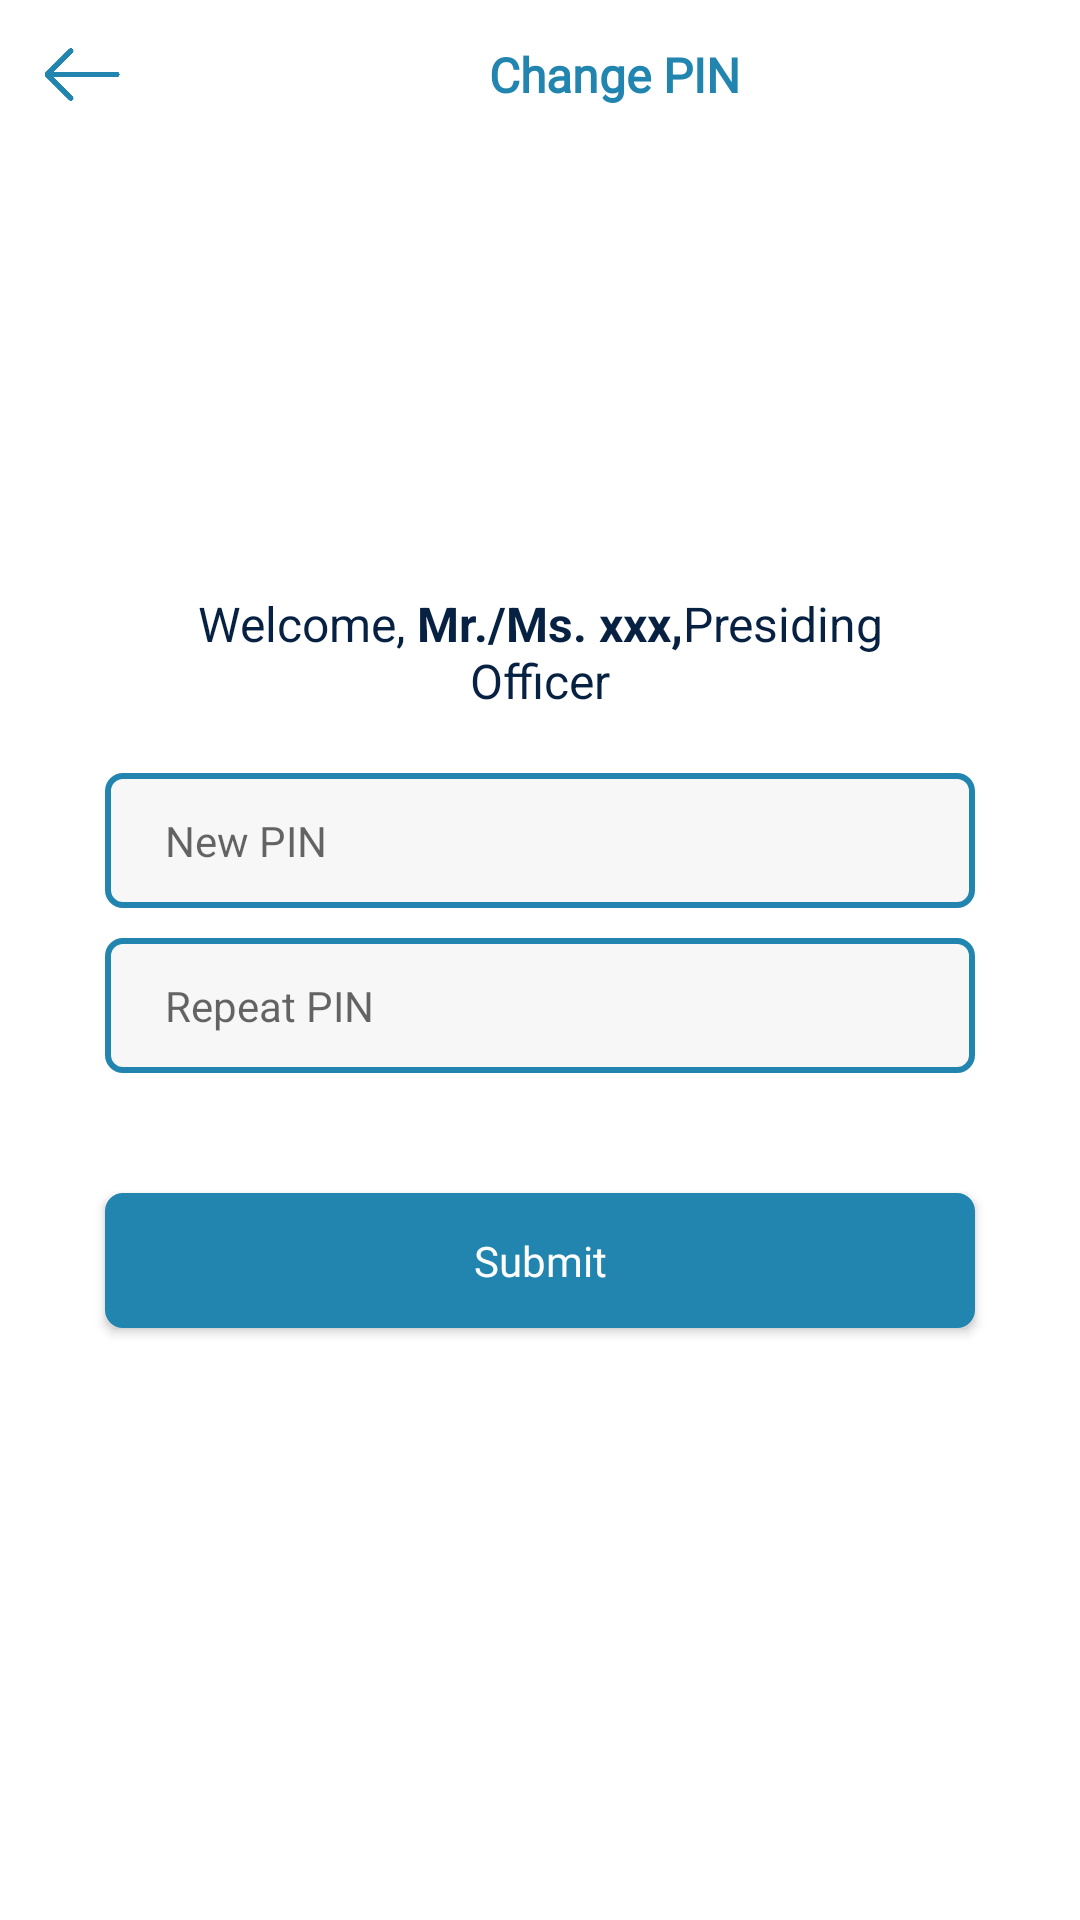

Icon bounding boxes for this 1080px×1920px phone screenshot, format (x1, y1, x2, y2):
back: (45, 48, 120, 101)
